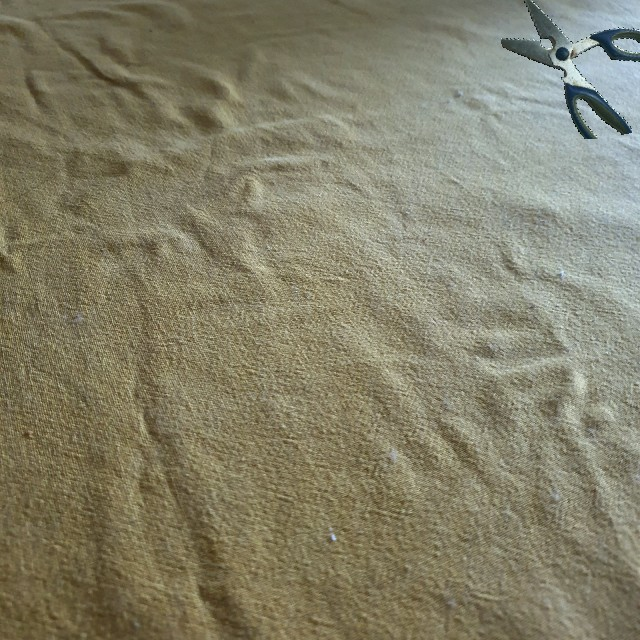scissors: (501, 0, 640, 139)
